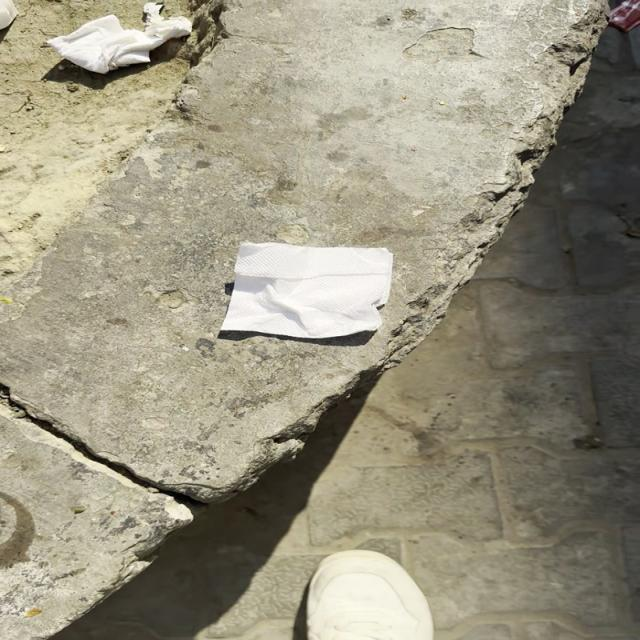tissue: (217, 242, 405, 338)
